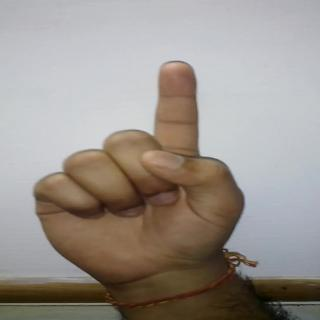I: (44, 56, 245, 272)
